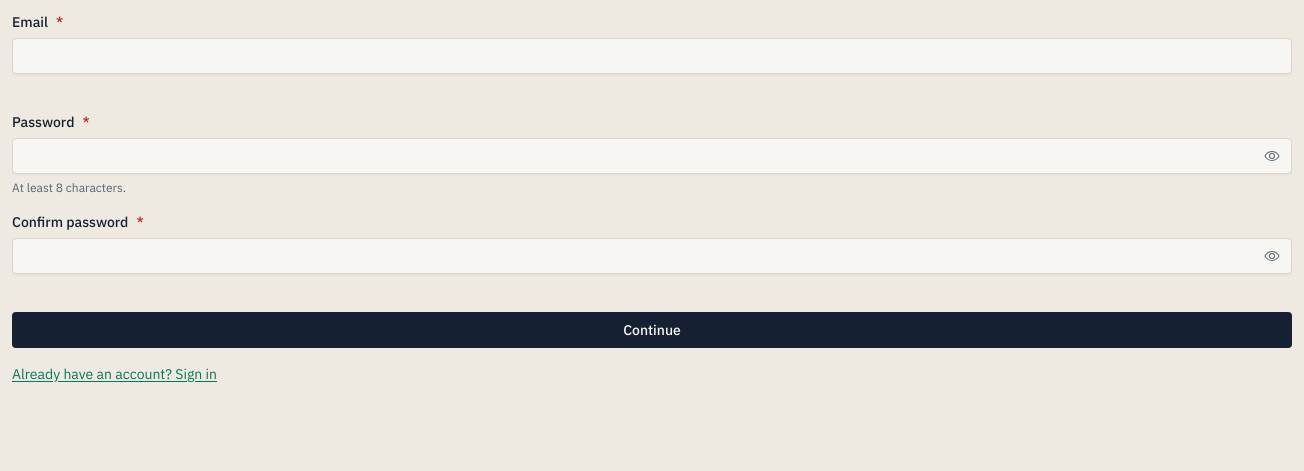
Test case: SignupForm › shows exactly one failure message on a rejected submission — a Banner, never also a toast
The width and height of the screenshot is (1304, 471).
In the field labelled "Email *": (652, 56) [12,38,1292,74], type "a@b.com"
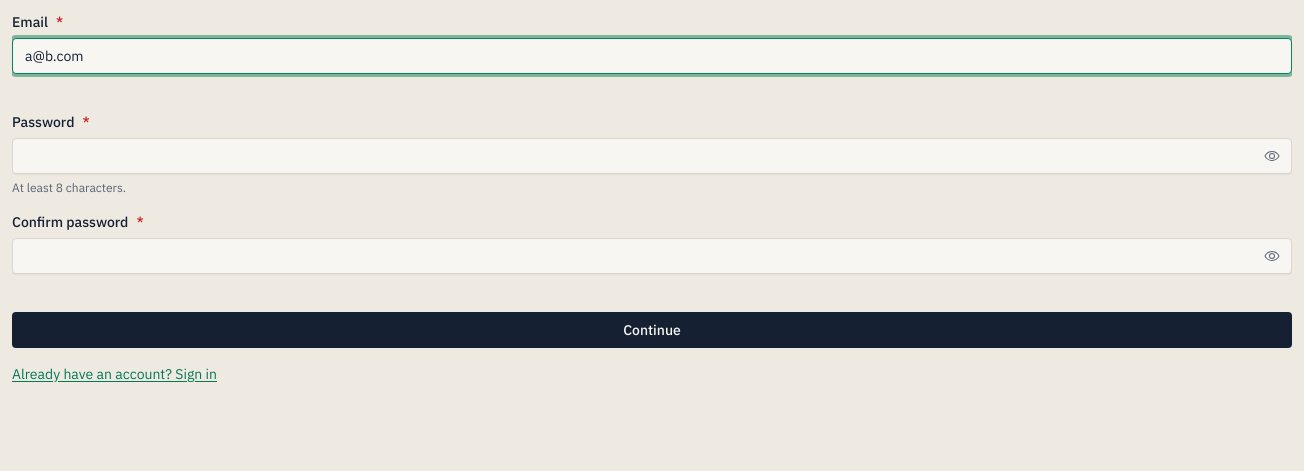
In the password field labelled "Password *": (652, 156) [12,138,1292,174], type "password123"
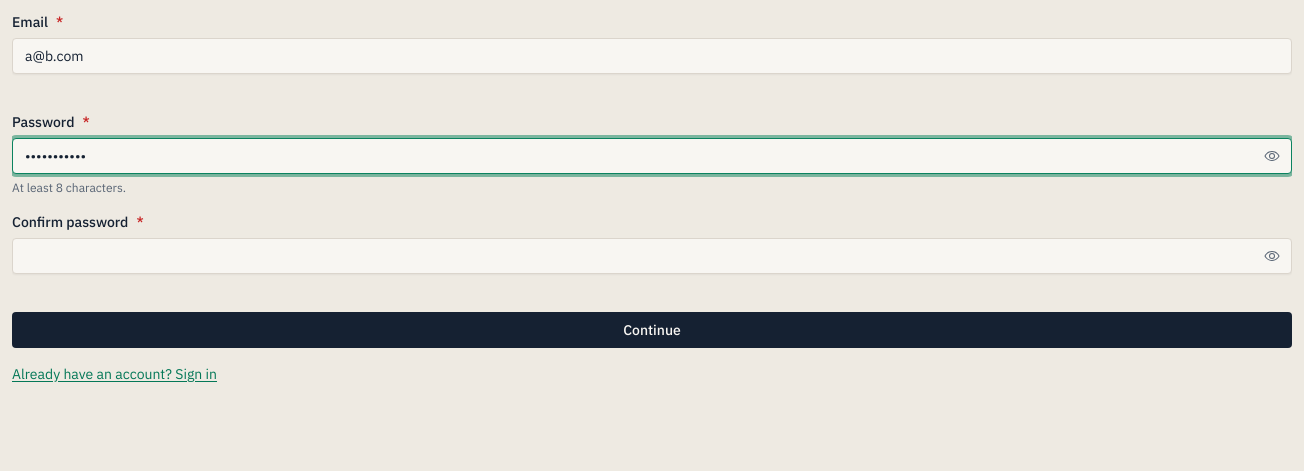
In the password field labelled "Confirm password *": (652, 256) [12,238,1292,274], type "password123"
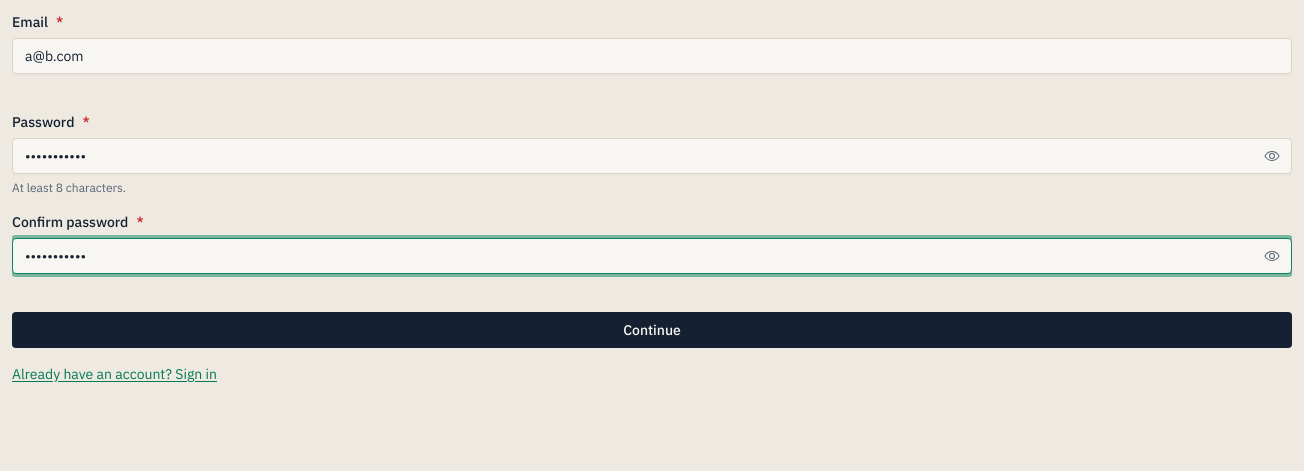
Click the button "Continue": click(652, 330) [12,312,1292,348]
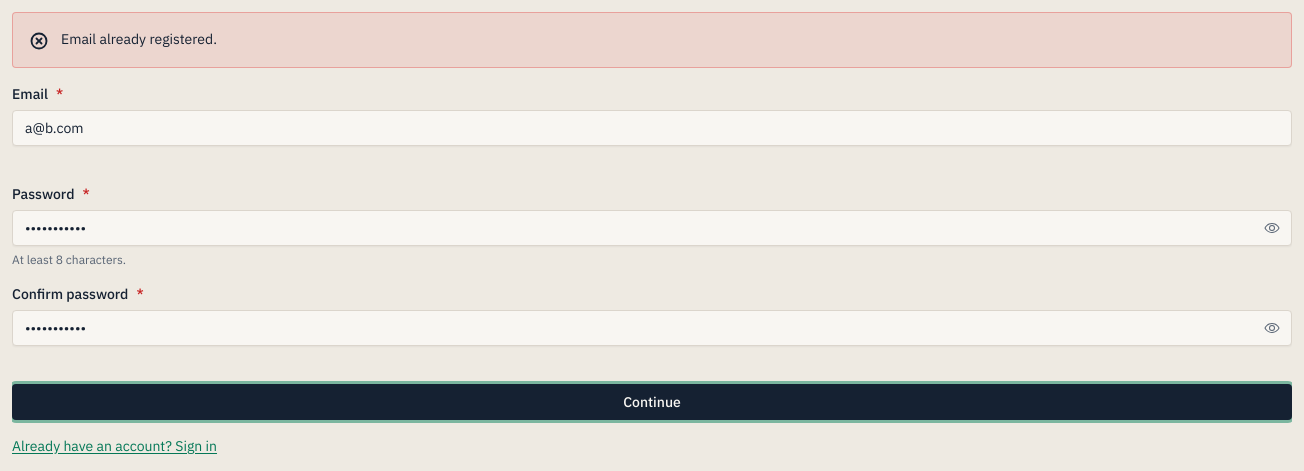
Check: the message reads "Email already registered.", box [61,30,217,48]
